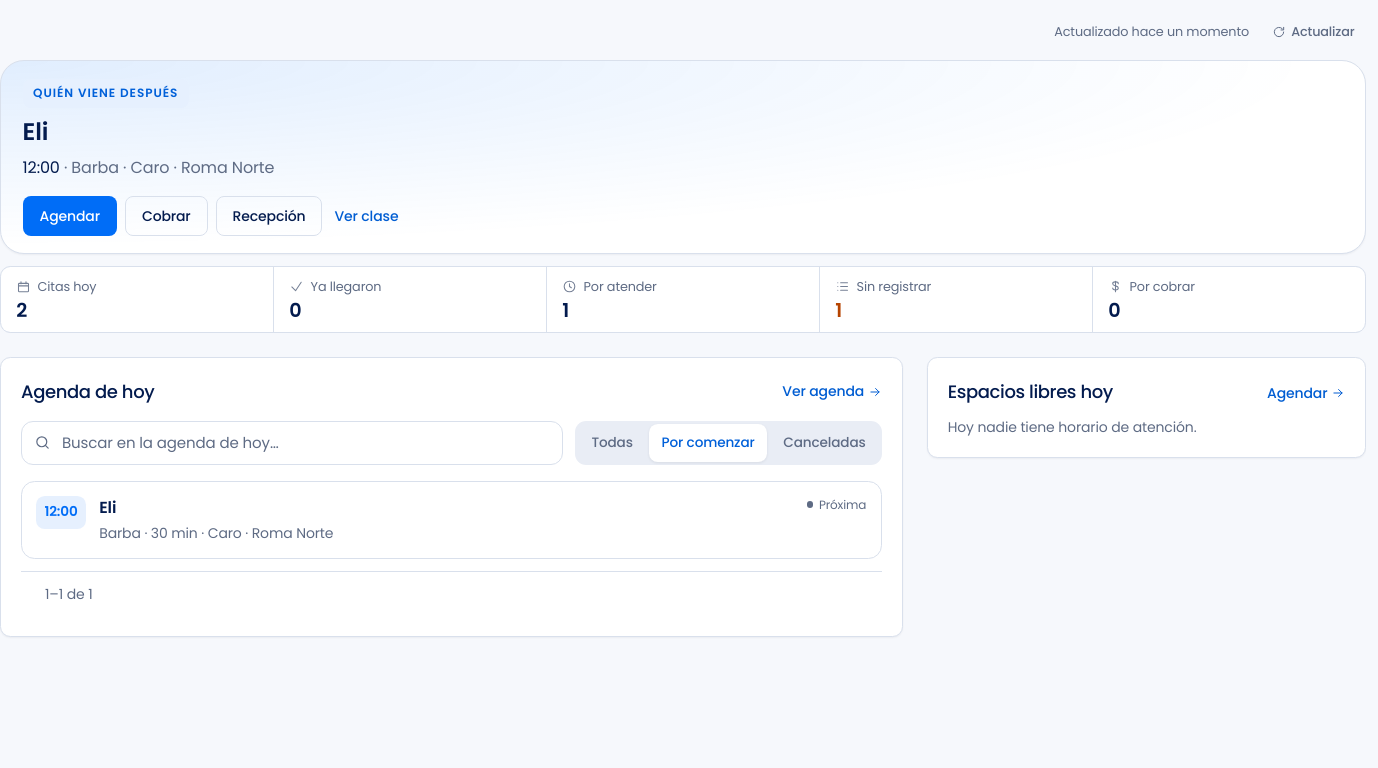
Scenario: el día de hoy en el Inicio › cada pendiente abre su clase o cita; en citas, sin registrar no es por atender
What coordinates should you click on to do the following:
click the button "Todas"
I would click on:
 (612, 443)
Its box is [579,424,646,462].
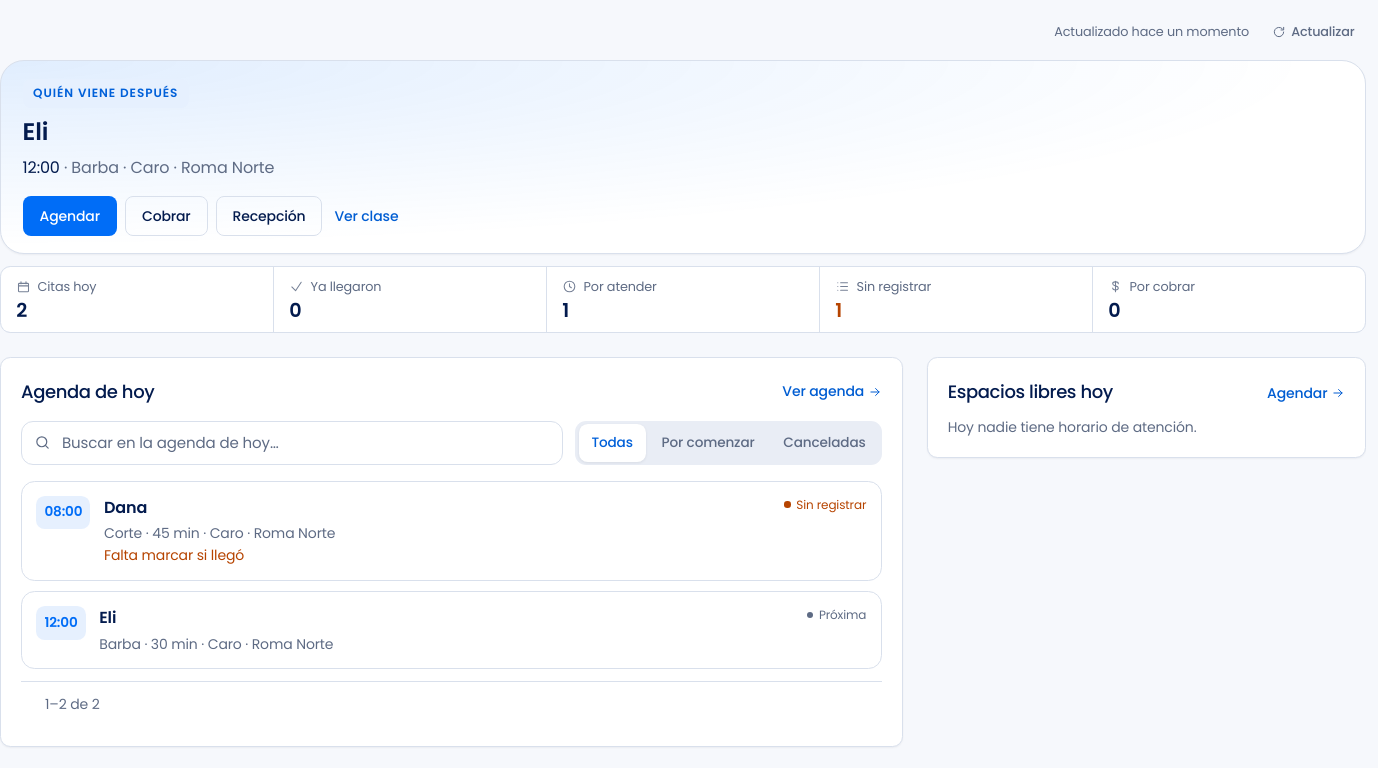
Check: the element showing "Por atender 1" is shown, box [547,267,819,332]
Check: the text "Corte · 45 min · Caro" is shown, box [104,523,335,543]
Check: the text "1 de 1" is gone
